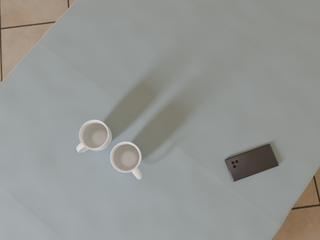cup: (110, 142, 143, 179), (77, 120, 112, 153)
phone: (225, 144, 279, 182)
